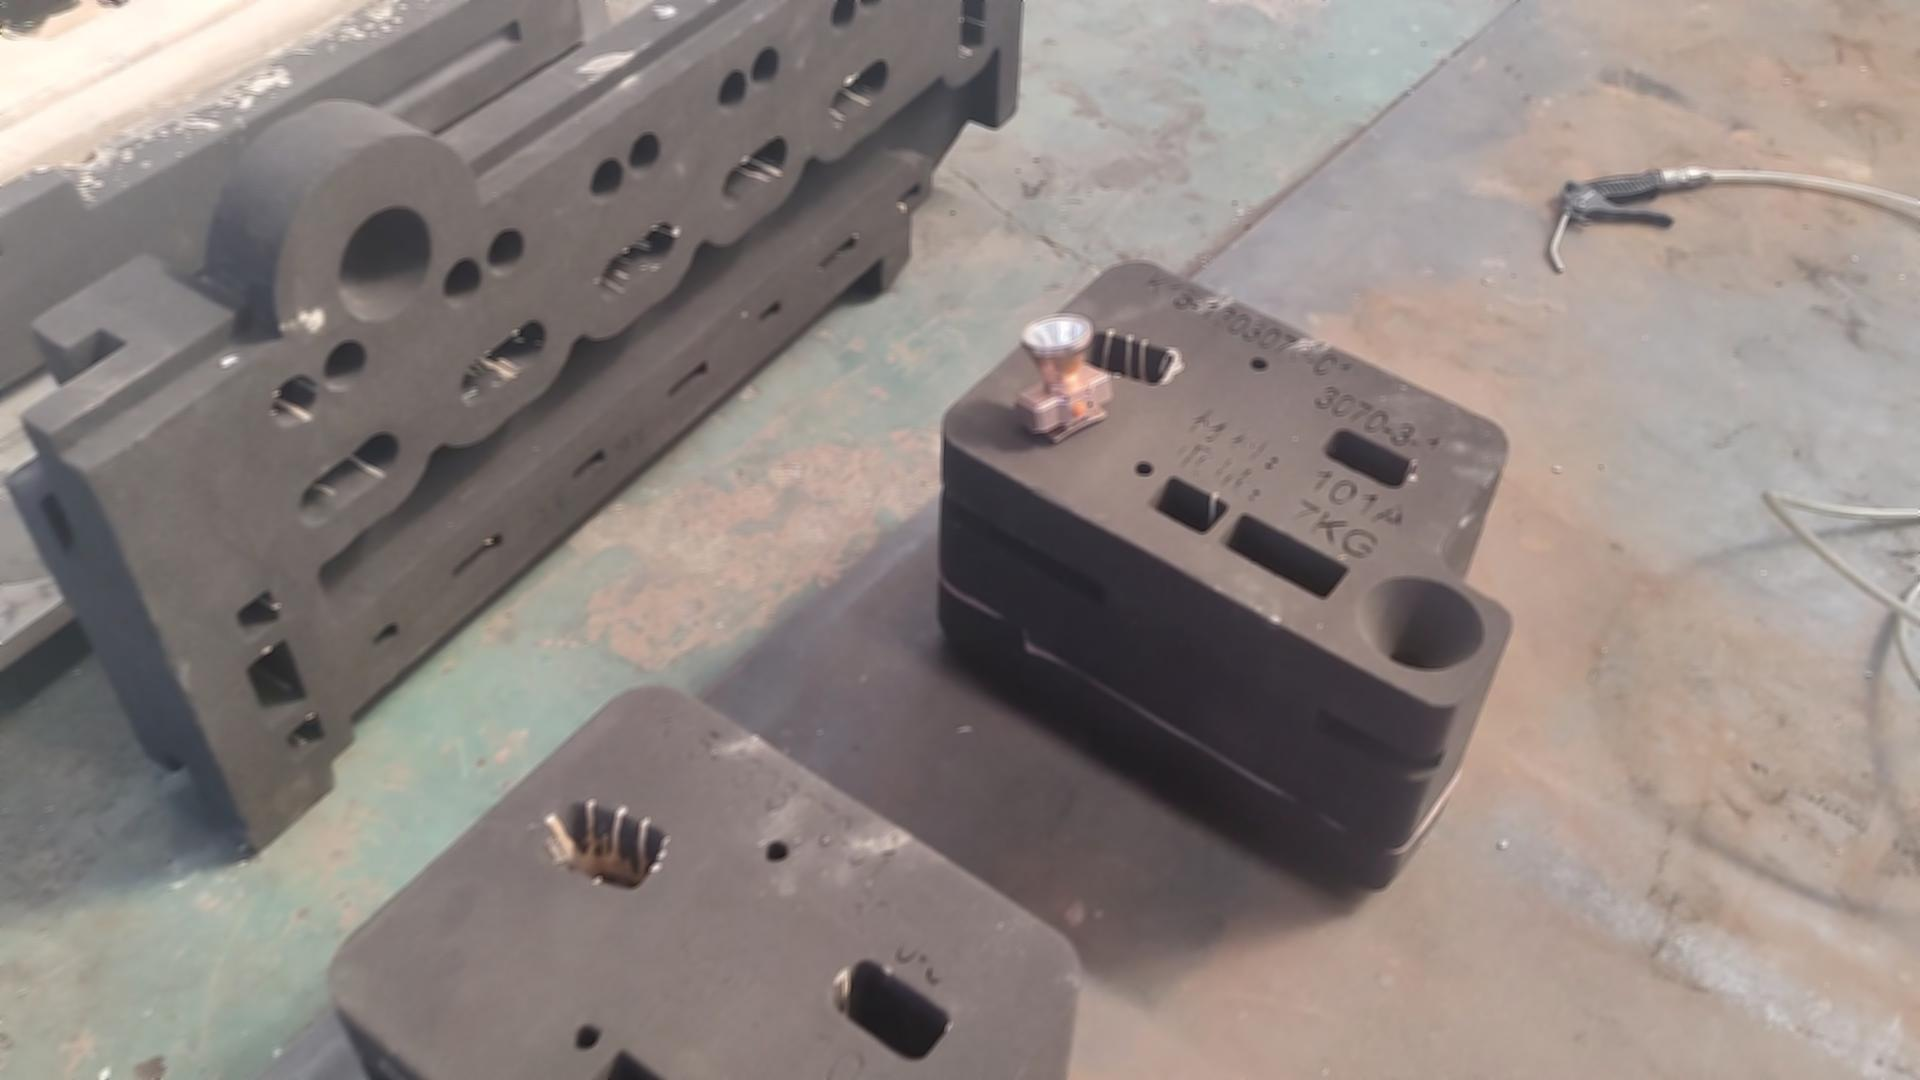pouring hole: (1360, 575, 1487, 673), (334, 203, 433, 322)
